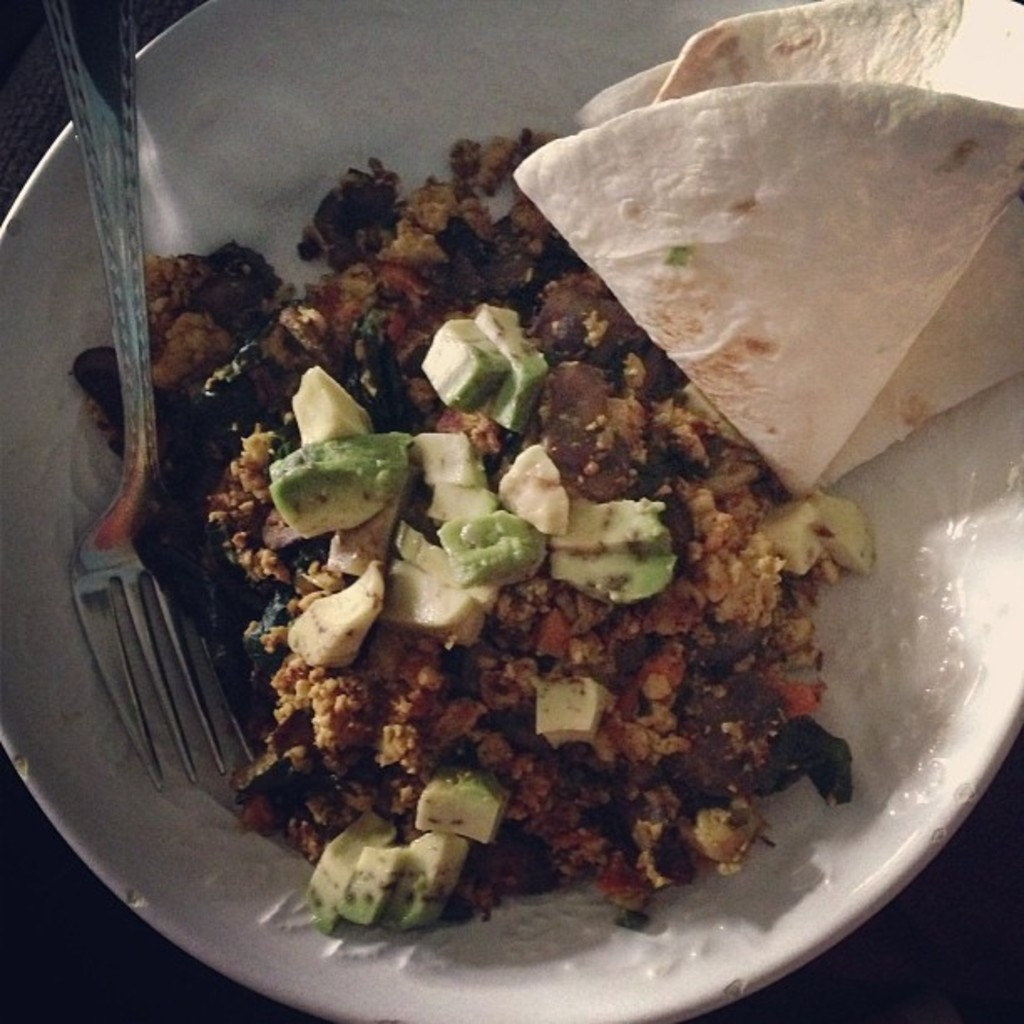salad: (62, 119, 888, 945)
